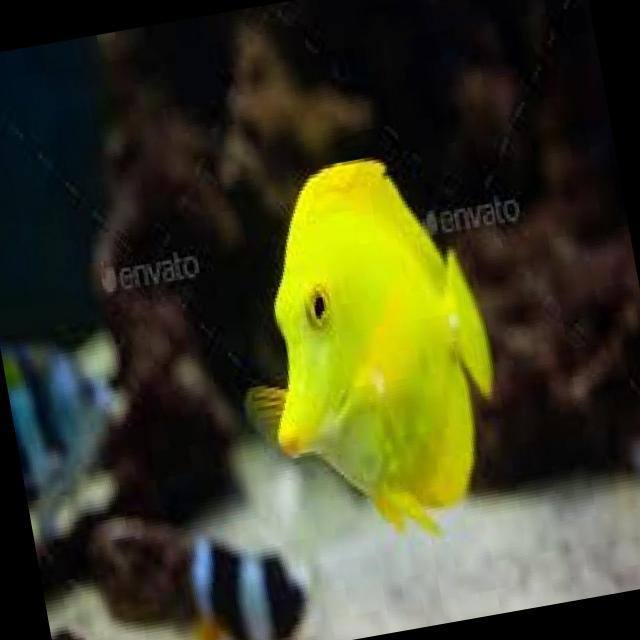YellowTang: (222, 122, 516, 558)
